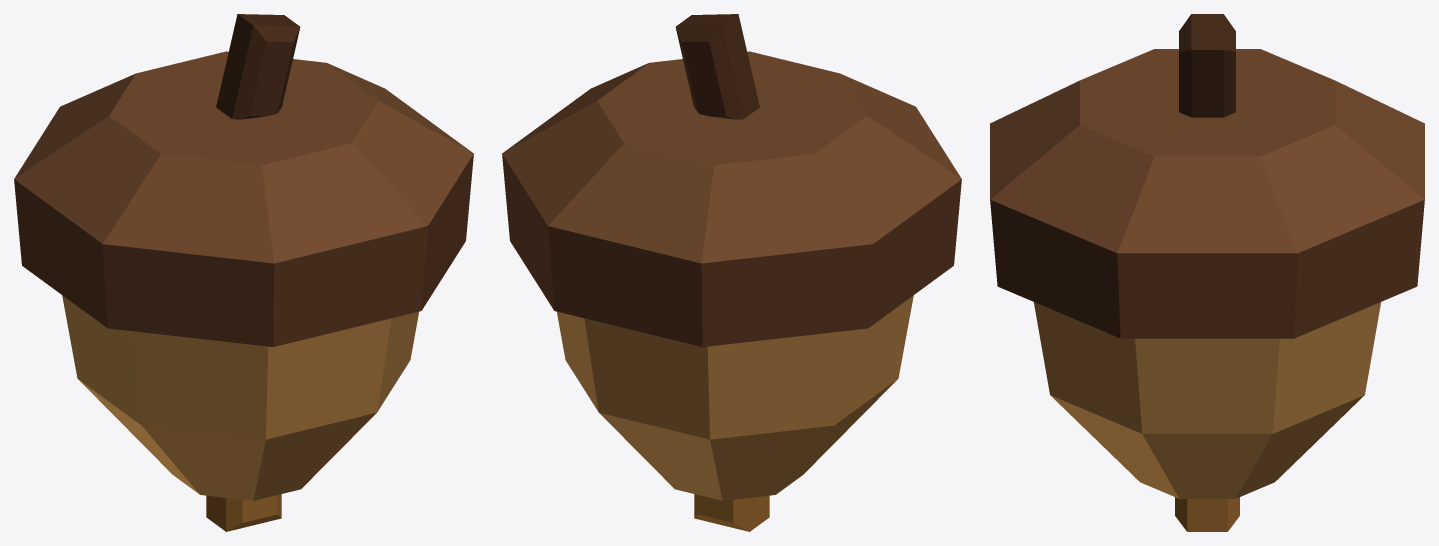
Rendered from fx_pet_acorn_pellet.glb.
3 views of the same model, side by side, from view 1: azimuth 30°, elevation 25°; view 2: azimuth 150°, elevation 25°; view 3: azimuth 270°, elevation 25° (orthographic).
Parts seen in each view (by area): view 1: pet_acorn_pellet_AcornPellet_Body_Mesh1; view 2: pet_acorn_pellet_AcornPellet_Body_Mesh1; view 3: pet_acorn_pellet_AcornPellet_Body_Mesh1.
Boxes of the visible parts, box(x1,y1,x2,y2) form: pet_acorn_pellet_AcornPellet_Body_Mesh1: box(14, 14, 473, 531); pet_acorn_pellet_AcornPellet_Body_Mesh1: box(502, 14, 961, 531); pet_acorn_pellet_AcornPellet_Body_Mesh1: box(990, 14, 1424, 531).
Bounding box in the file's own units: 0.5359 × 0.6866 × 0.5359.
